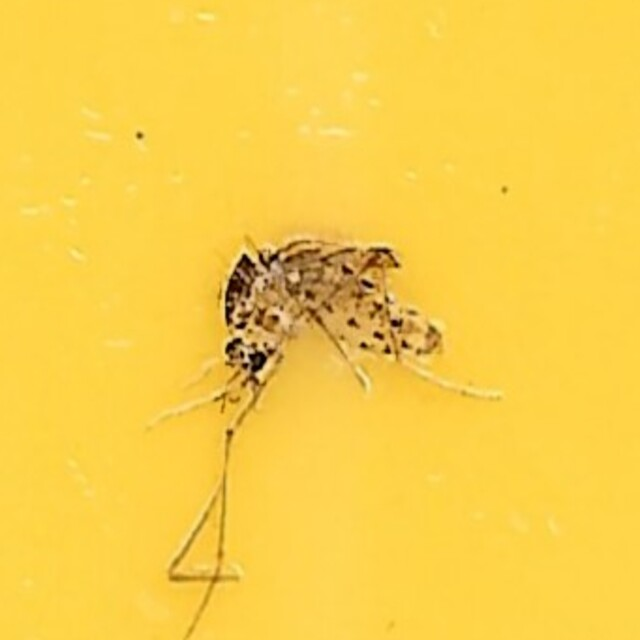Nematocera: (188, 227, 452, 413)
